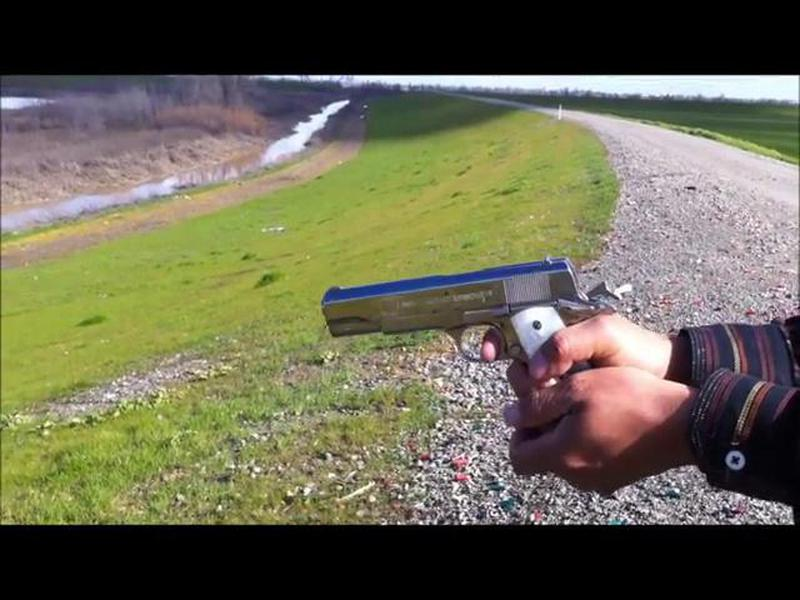Pistola: (302, 239, 610, 443)
